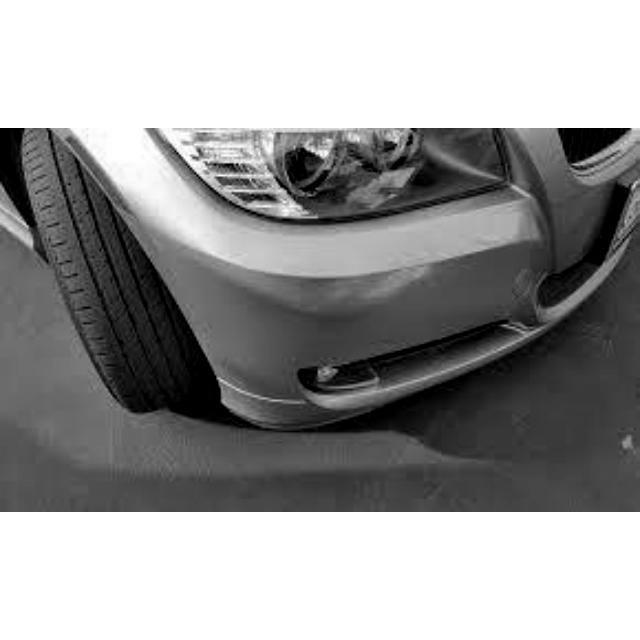front-bumper-dent: (204, 197, 521, 424)
